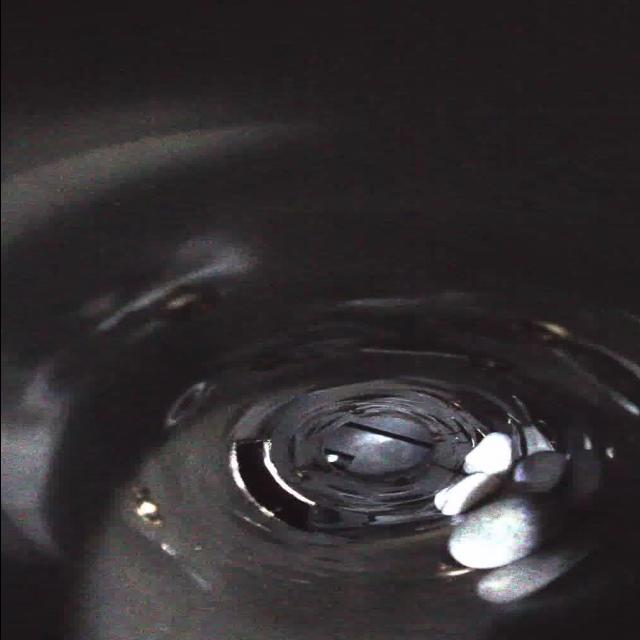crack: (380, 488, 450, 521), (331, 386, 415, 411), (323, 484, 375, 520), (430, 412, 486, 442), (297, 406, 343, 442), (274, 431, 304, 469), (445, 458, 479, 488)
hole: (224, 437, 314, 533)
